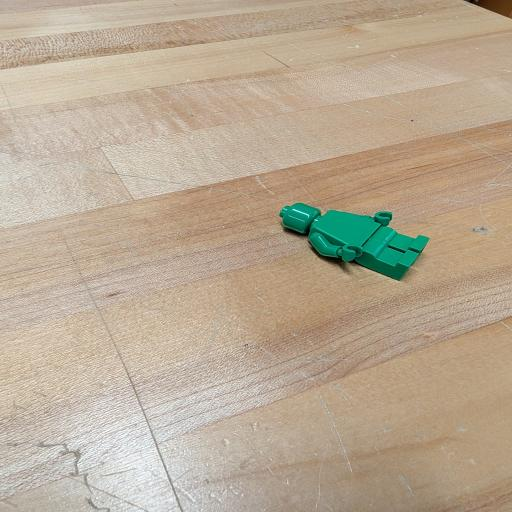Minifig: (280, 202, 429, 280)
